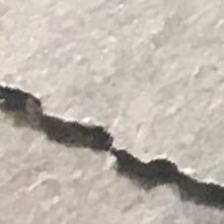Crack: (0, 83, 224, 224)
